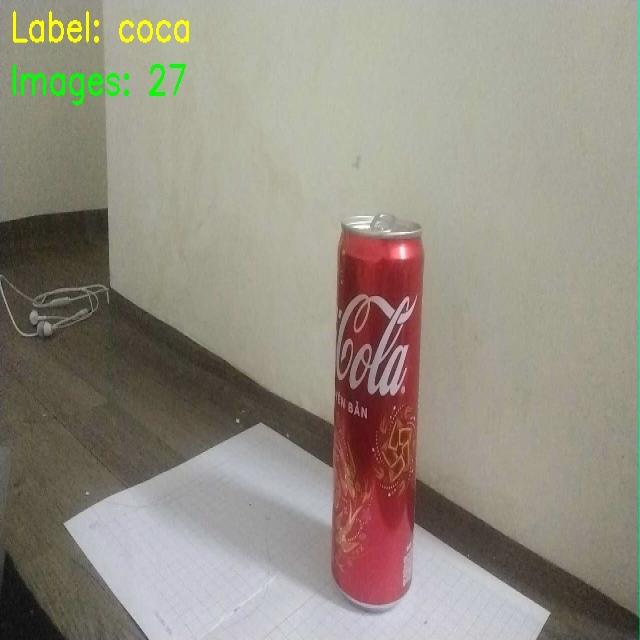Coca: (323, 200, 446, 614)
